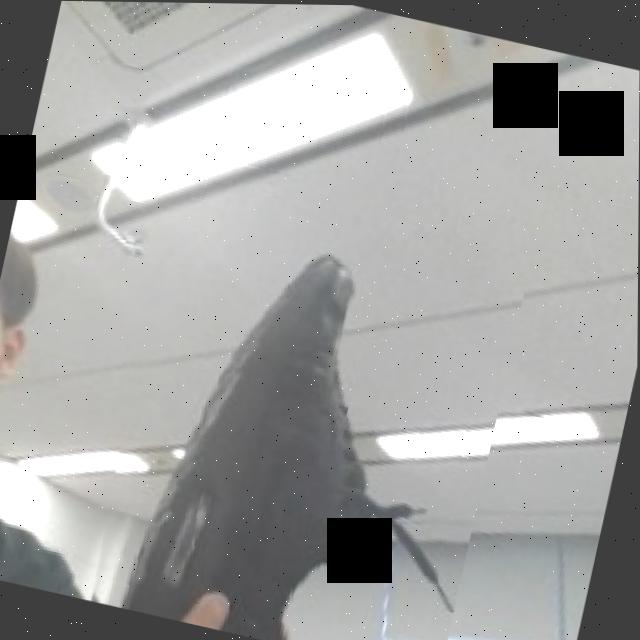shoe: (76, 189, 529, 640)
